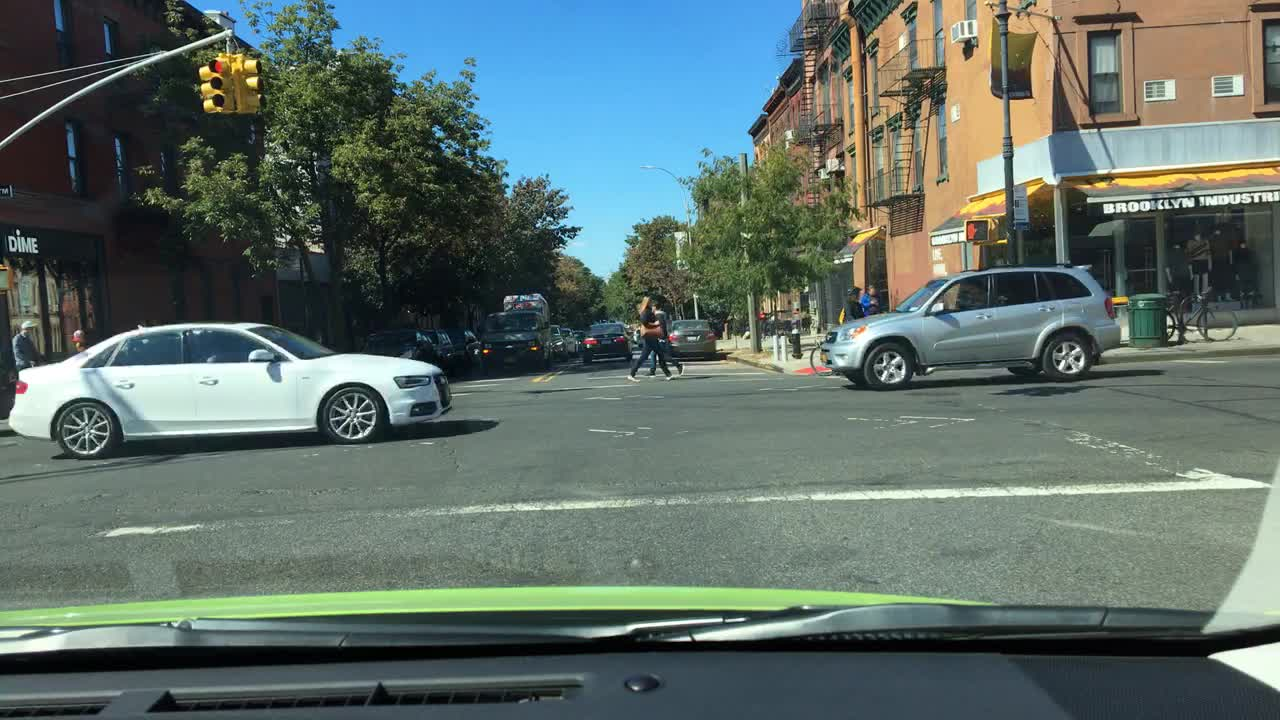bike: (1163, 288, 1239, 343)
car: (7, 321, 454, 458), (817, 261, 1122, 392), (360, 326, 430, 362), (577, 322, 634, 365), (667, 321, 718, 359), (445, 328, 481, 368), (423, 329, 451, 368), (546, 322, 568, 359), (559, 326, 579, 356), (571, 329, 583, 347)
person: (622, 297, 676, 380), (639, 298, 691, 374), (8, 318, 42, 373), (836, 283, 862, 321), (857, 282, 883, 315), (68, 325, 92, 352)
traffic light: (206, 57, 233, 111), (242, 57, 266, 111), (197, 63, 216, 114), (965, 219, 999, 243), (0, 268, 11, 294)
traffic sign: (1011, 186, 1029, 225)
truck: (478, 294, 559, 374)
